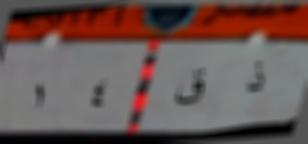1: (29, 74, 50, 116)
4: (84, 75, 113, 113)
qaaf: (172, 61, 213, 114)
zaal: (238, 56, 270, 98)
